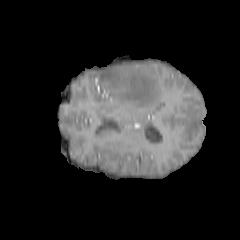glioma: (96, 63, 163, 112)
